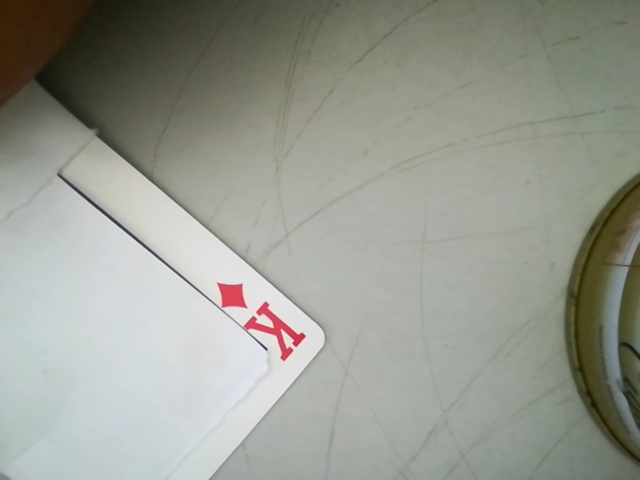fk k: (204, 277, 312, 366)
